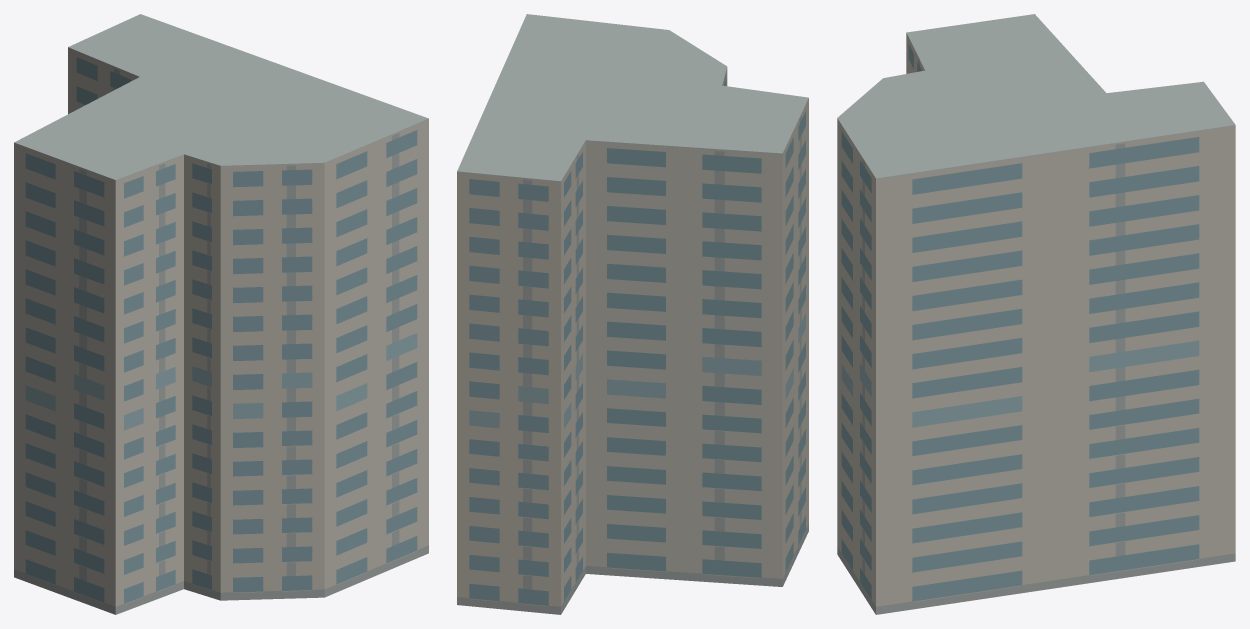
File: residential-1c66a262-12a0-4661-b62d-648f68f14f39.glb
The picture shows the model from 3 angles, left to right: view 1: azimuth 30°, elevation 25°; view 2: azimuth 150°, elevation 25°; view 3: azimuth 270°, elevation 25°; orthographic projection.
Parts seen in each view (by area): view 1: residential-1c66a262-12a0-4661-b62d-648f68f14f39.tmp; view 2: residential-1c66a262-12a0-4661-b62d-648f68f14f39.tmp; view 3: residential-1c66a262-12a0-4661-b62d-648f68f14f39.tmp.
Part boxes in pixels (<box>): residential-1c66a262-12a0-4661-b62d-648f68f14f39.tmp: <box>14,14,428,614</box>; residential-1c66a262-12a0-4661-b62d-648f68f14f39.tmp: <box>457,14,808,614</box>; residential-1c66a262-12a0-4661-b62d-648f68f14f39.tmp: <box>837,14,1235,614</box>.
Size of the model in its own units: 45.26 by 56 by 46.33.
